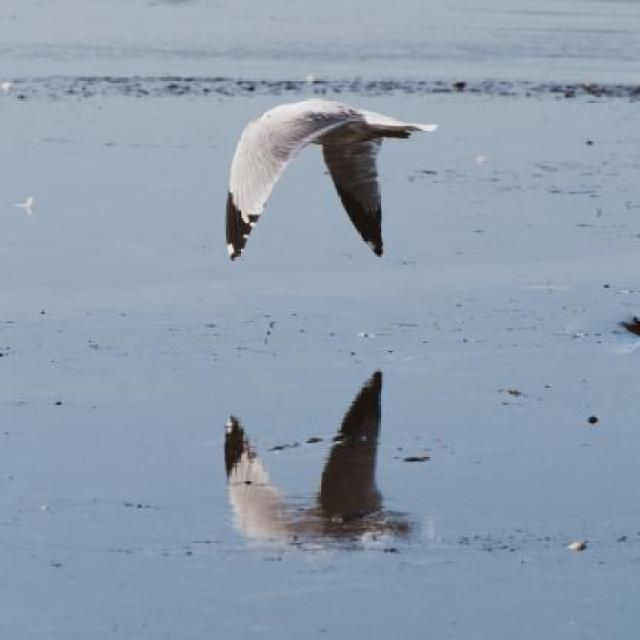bird: (227, 101, 438, 262)
